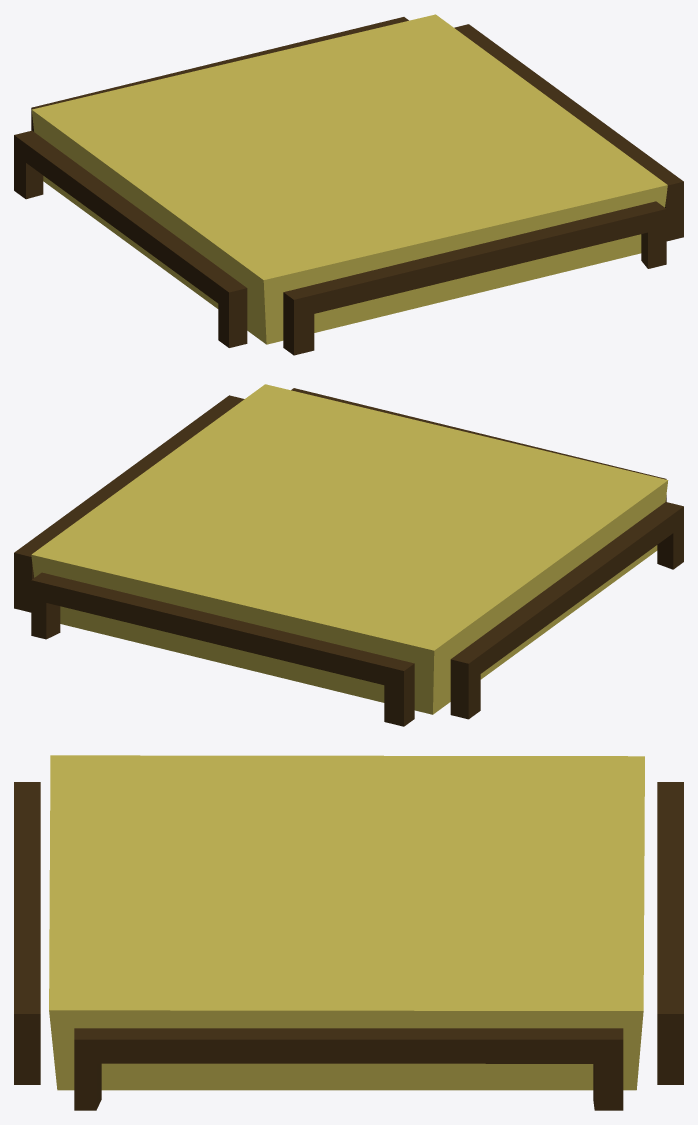
The model's file is farm.glb.
3 views of the same model, one above another, from view 1: azimuth 30°, elevation 25°; view 2: azimuth 150°, elevation 25°; view 3: azimuth 270°, elevation 25° (orthographic). The views are drawn at different scales.
Parts seen in each view (by area): view 1: Cube; view 2: Cube; view 3: Cube.
Part boxes in pixels (bbox=[...]): Cube: bbox=[14, 14, 683, 355]; Cube: bbox=[14, 384, 683, 726]; Cube: bbox=[14, 755, 683, 1110].
Bounding box in the file's own units: 2.21 × 0.3195 × 2.21.
2 materials, 2 textured.
